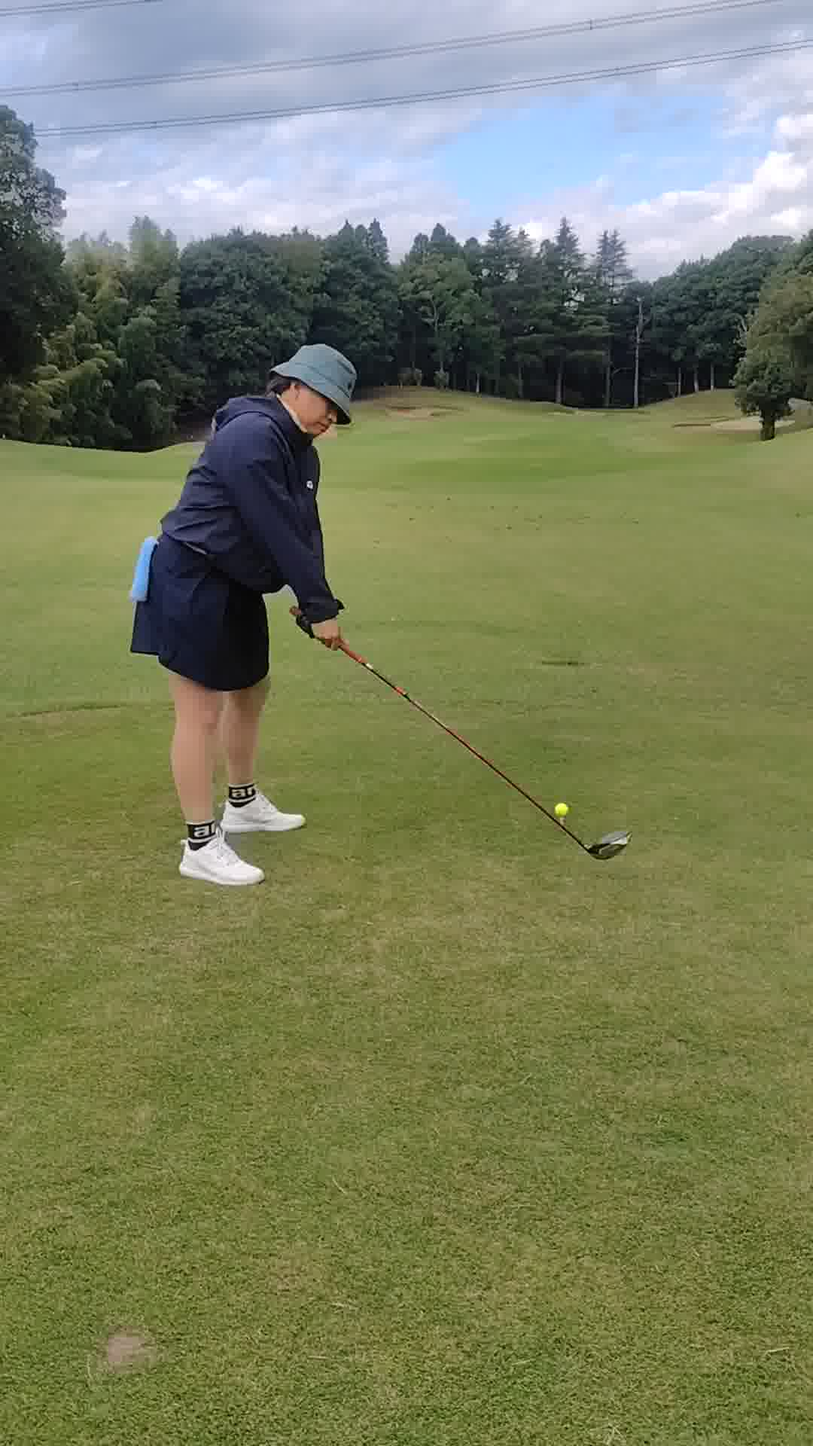clubhead: (488, 764, 701, 970)
